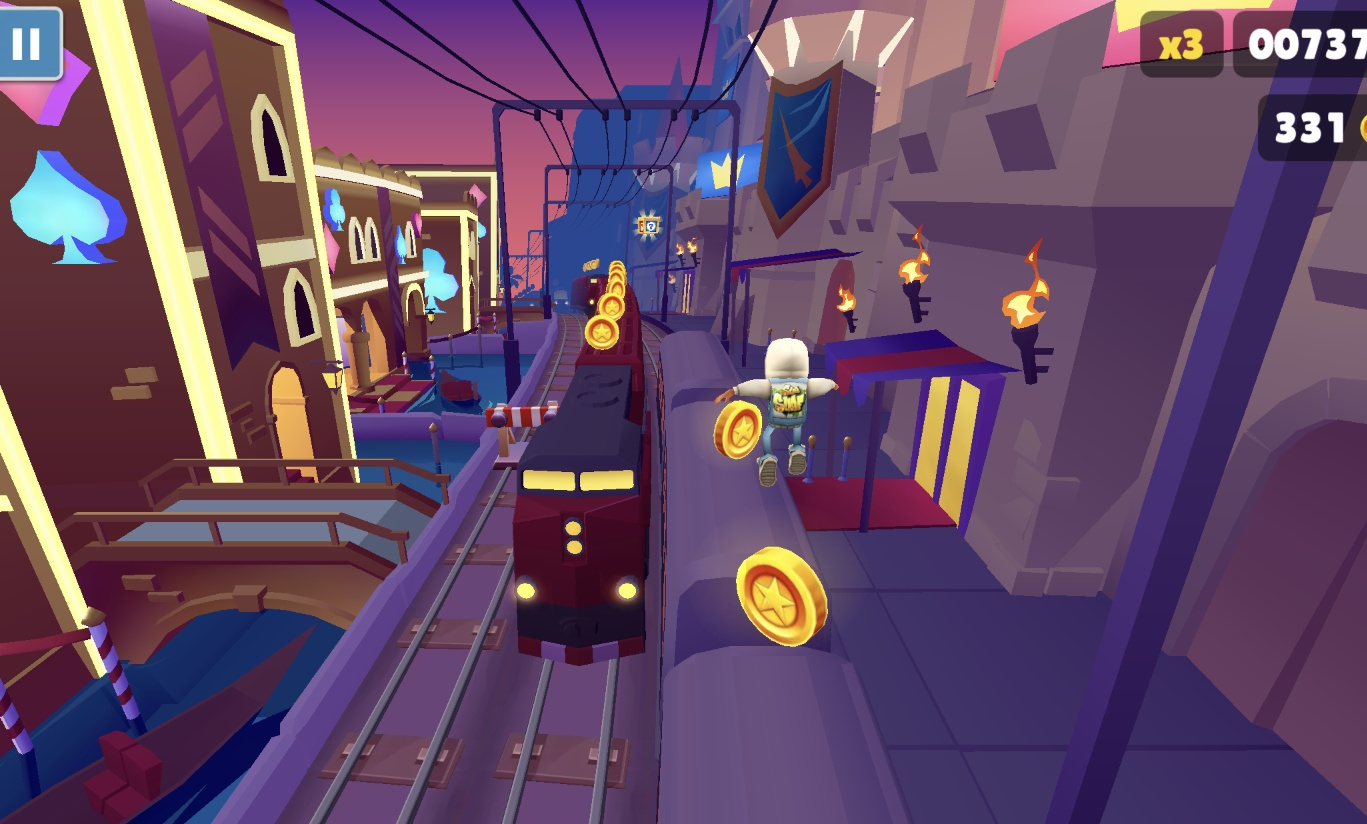ground_barrier: (485, 402, 559, 460)
train: (655, 330, 902, 824), (511, 316, 649, 667), (580, 274, 610, 316), (552, 289, 571, 319)
